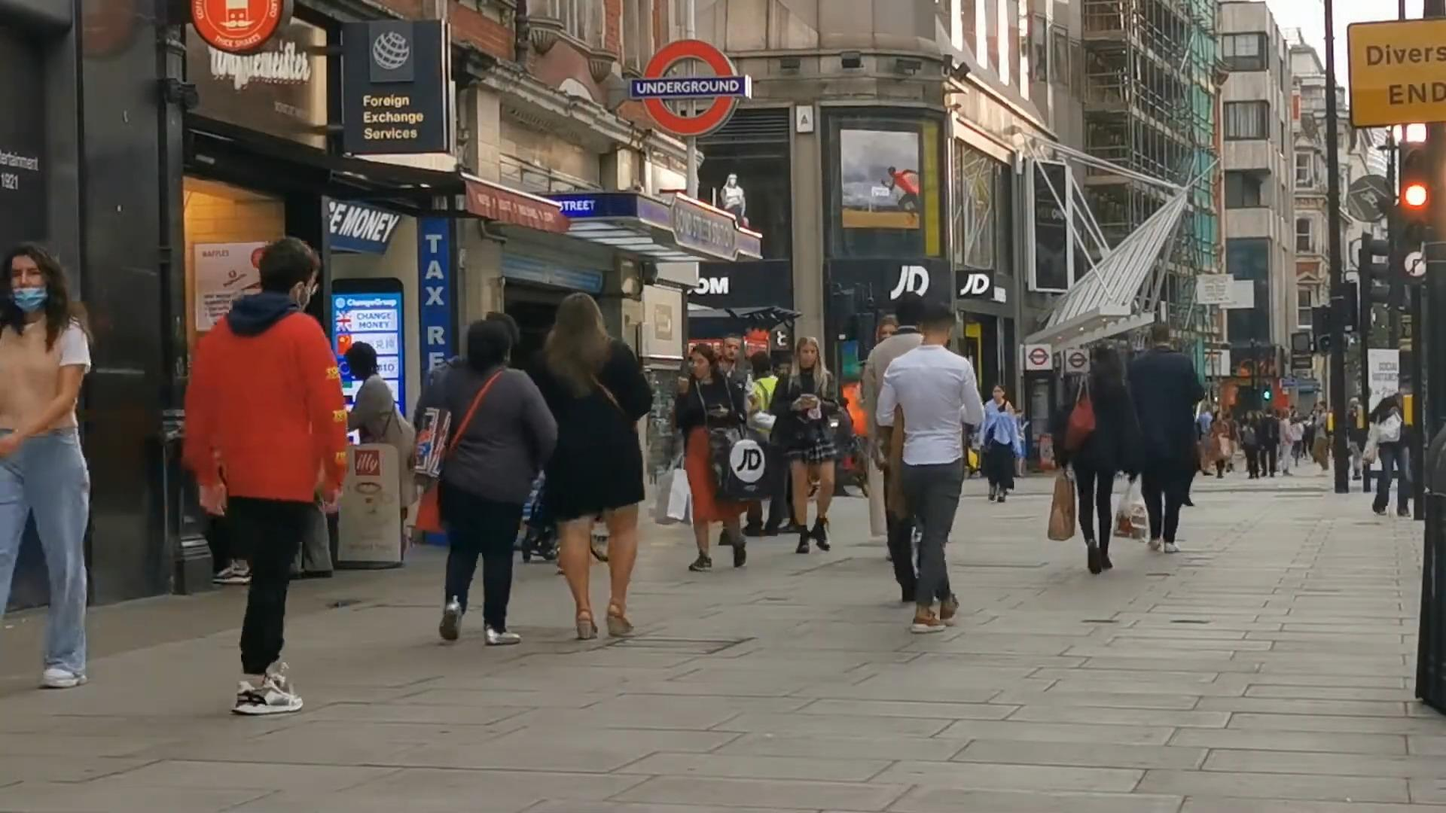no-helmet: (0, 241, 68, 318), (259, 236, 320, 312), (545, 293, 616, 358), (468, 319, 512, 378), (922, 301, 955, 342), (1094, 344, 1123, 387), (690, 342, 719, 381), (795, 336, 822, 368), (876, 313, 900, 344), (723, 333, 741, 362), (1151, 322, 1170, 346)
